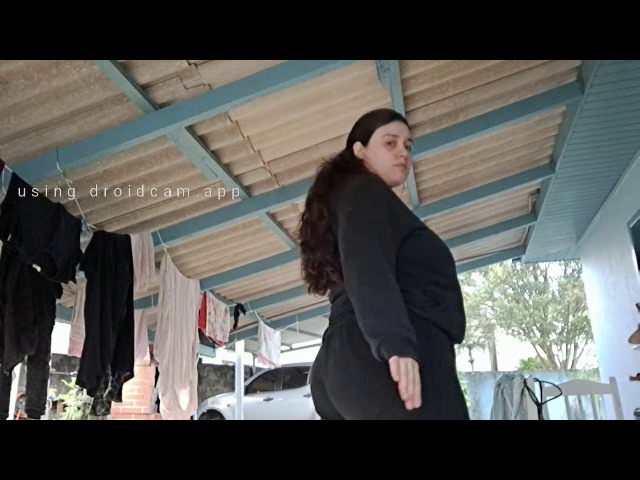MULHER: (323, 87, 430, 208)
